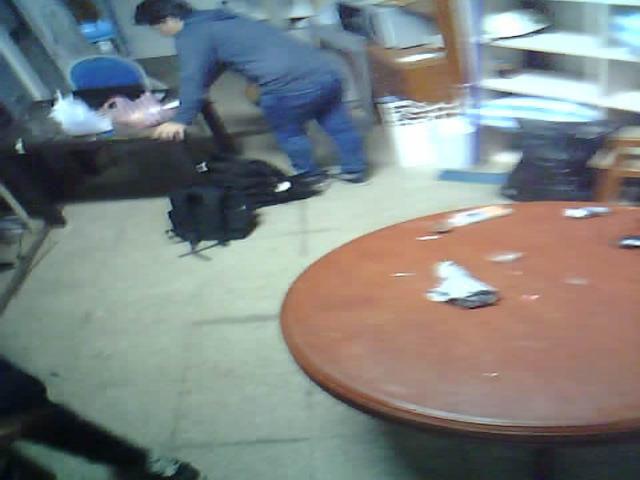person: (128, 0, 384, 202)
